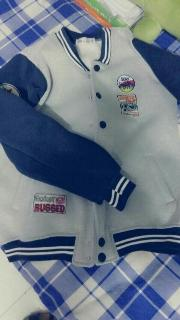long sleeve outwear: (0, 27, 180, 268)
